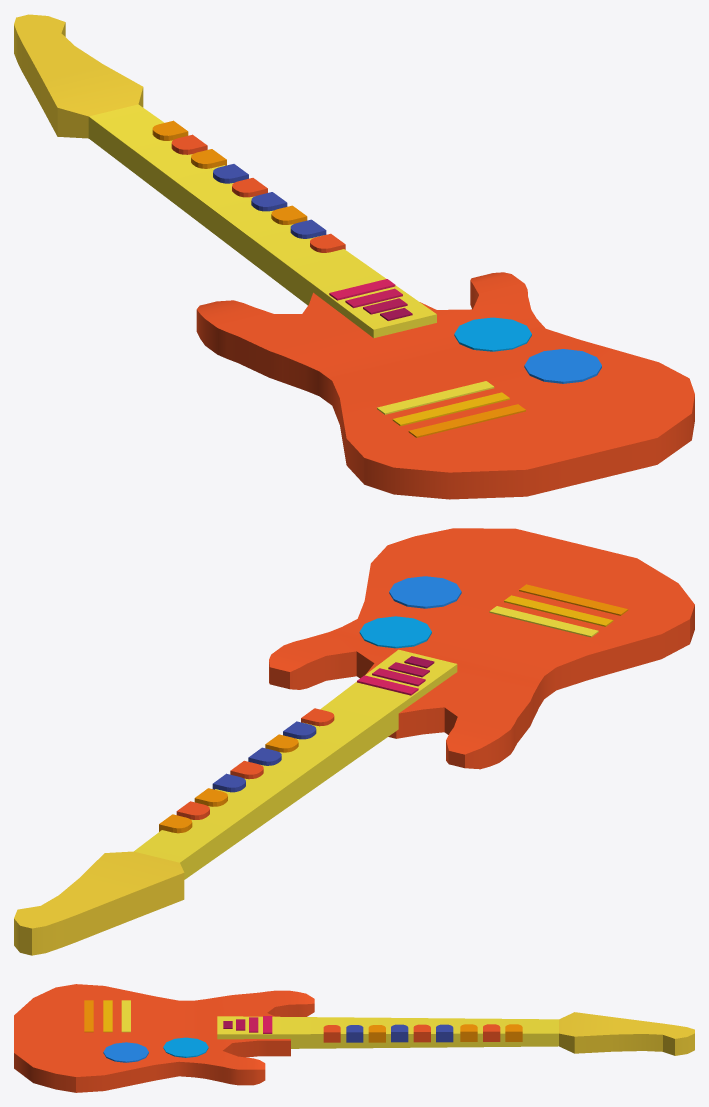
File: Guitar_1.fbx
3 views of the same model, one above another, from view 1: azimuth 30°, elevation 25°; view 2: azimuth 150°, elevation 25°; view 3: azimuth 270°, elevation 25° (orthographic). The views are drawn at different scales.
Visible parts, largest first — view 1: Guitar_1; view 2: Guitar_1; view 3: Guitar_1.
Boxes of the visible parts, left/top/right/bottom form: Guitar_1: left=14, top=14, right=694, bottom=499; Guitar_1: left=14, top=528, right=694, bottom=955; Guitar_1: left=14, top=984, right=694, bottom=1092.
Size of the model in its own units: 32.95 by 3.76 by 102.
1 material, 1 textured.
